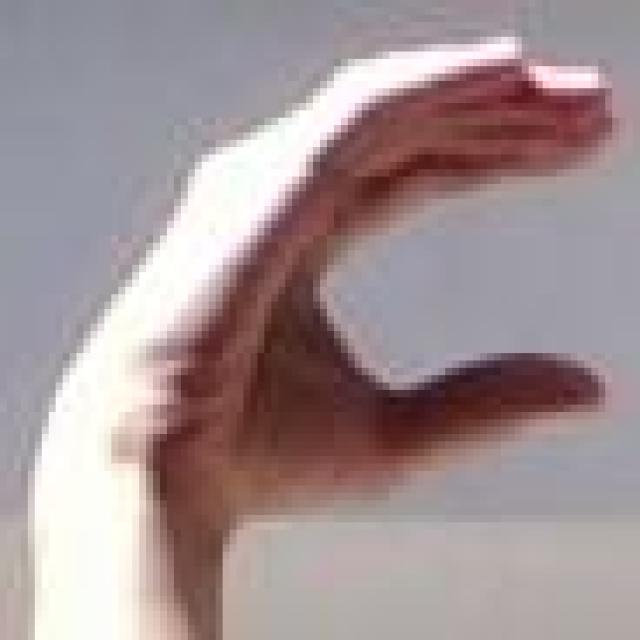C: (1, 0, 640, 538)
